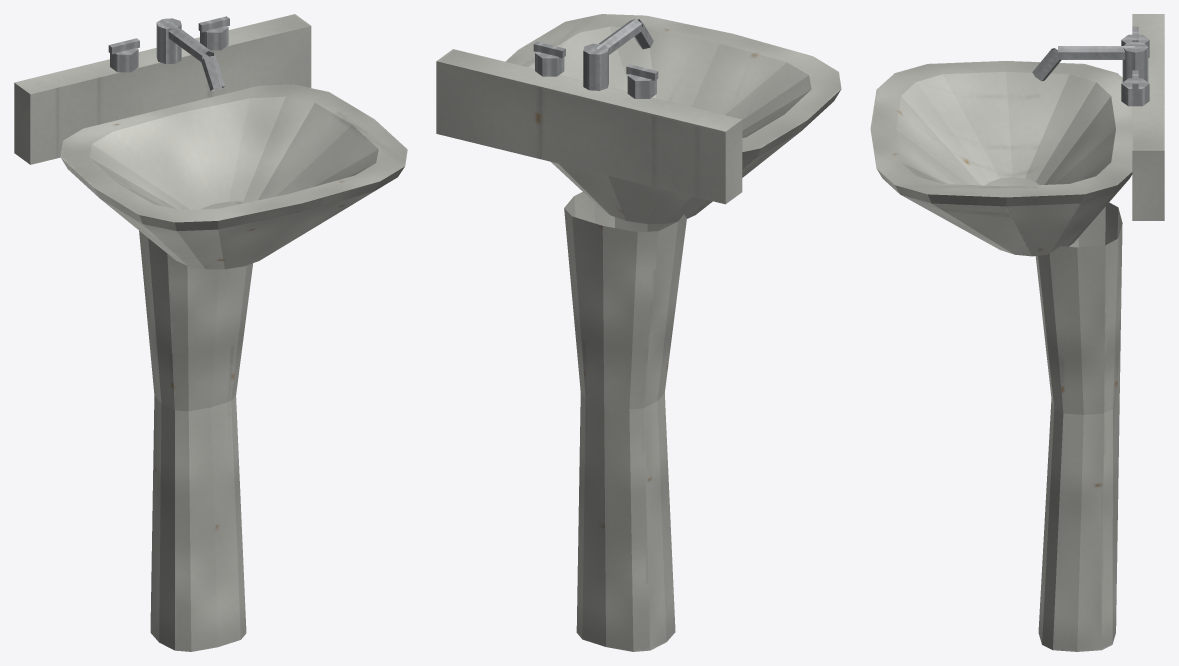
The model's file is Sink.fbx.
3 views of the same model, side by side, from view 1: azimuth 30°, elevation 25°; view 2: azimuth 150°, elevation 25°; view 3: azimuth 270°, elevation 25° (orthographic). The views are drawn at different scales.
Parts seen in each view (by area): view 1: раковина; view 2: раковина; view 3: раковина.
Part boxes in pixels (box(x1,y1,x2,y2)): раковина: box(14, 14, 407, 651); раковина: box(436, 14, 841, 651); раковина: box(870, 14, 1164, 651).
Bounding box in the file's own units: 0.5 × 1 × 0.455.
1 material, 1 textured.
